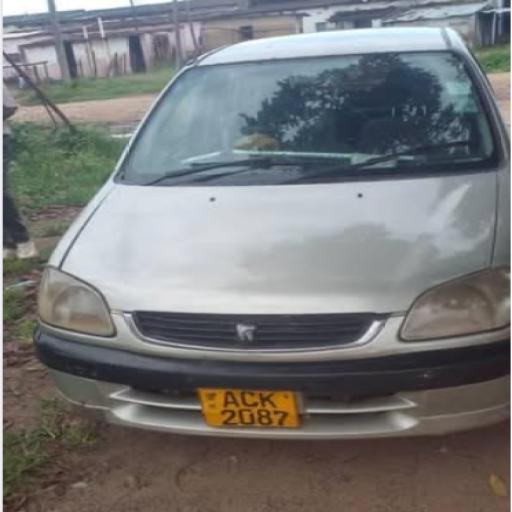number-plates: (202, 385, 292, 430)
